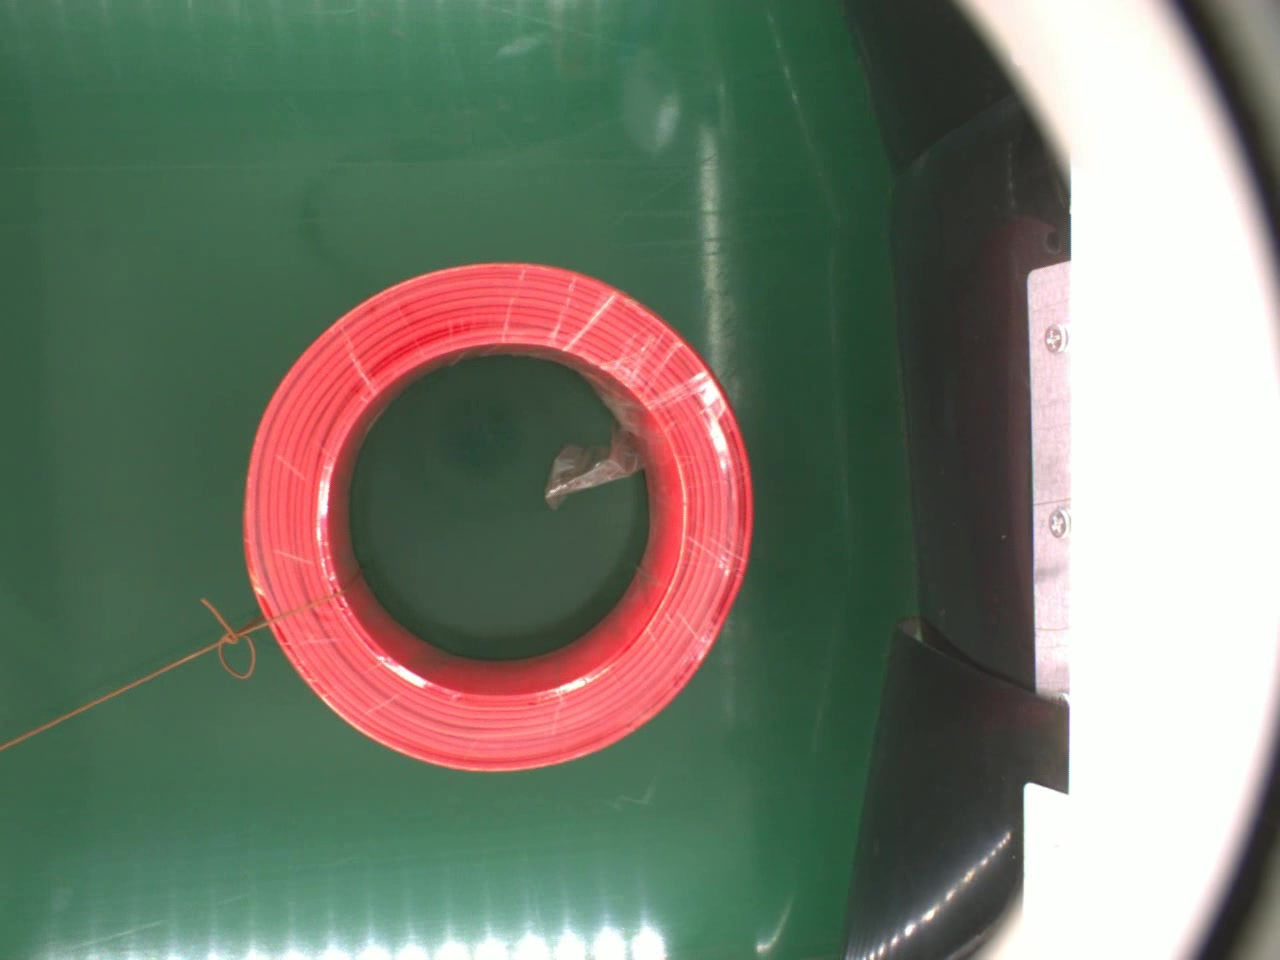red: (235, 257, 754, 782)
